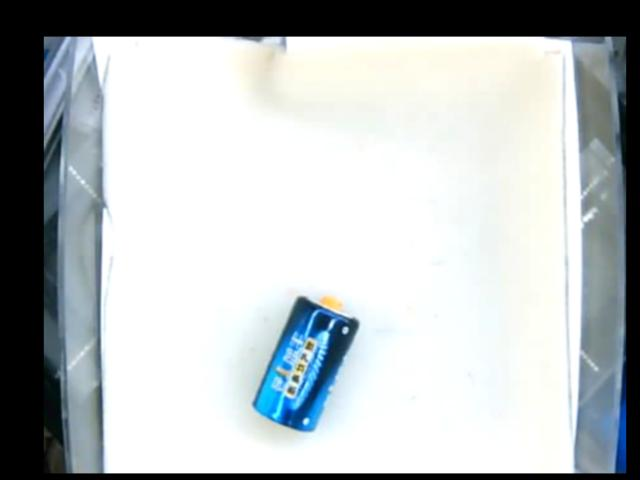Battery: (253, 295, 360, 432)
